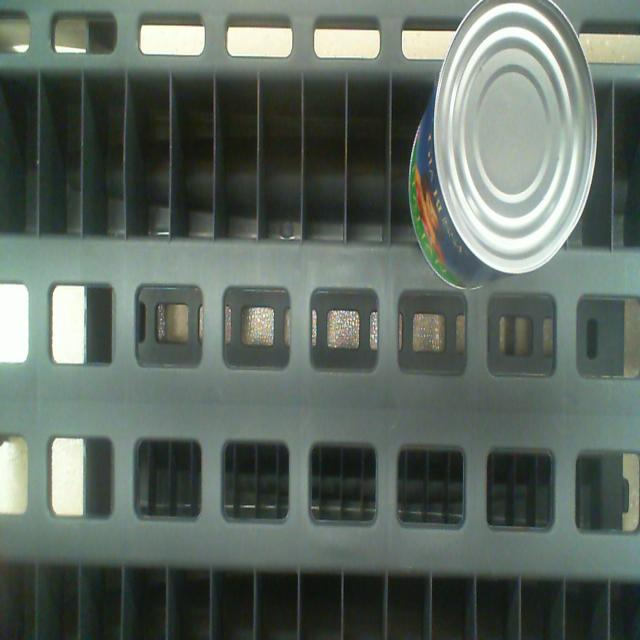can: (434, 0, 599, 281)
